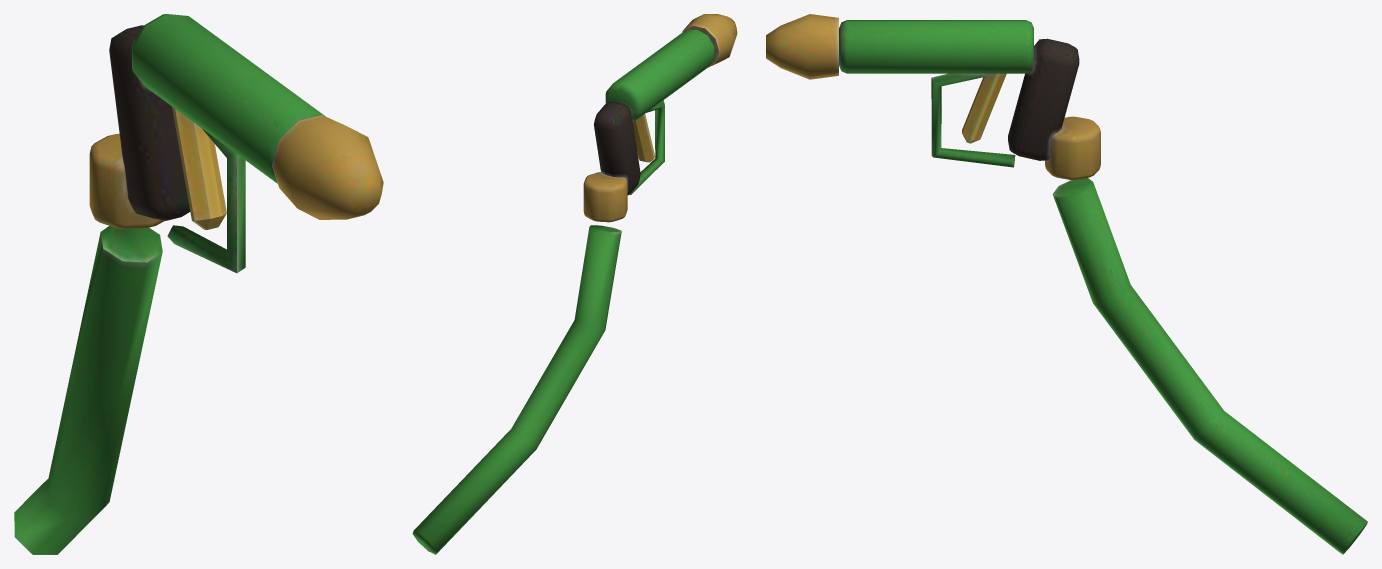
The model's file is hose_nozzle.glb.
The picture shows the model from 3 angles, left to right: view 1: azimuth 30°, elevation 25°; view 2: azimuth 150°, elevation 25°; view 3: azimuth 270°, elevation 25°; orthographic projection. The views are drawn at different scales.
Visible parts, largest first — view 1: hose_nozzle; view 2: hose_nozzle; view 3: hose_nozzle.
Part boxes in pixels (<box>): hose_nozzle: <box>14,14,383,554</box>; hose_nozzle: <box>412,14,737,554</box>; hose_nozzle: <box>766,14,1367,554</box>.
Bounding box in the file's own units: 0.1547 × 0.56 × 0.6178.
1 material, 1 textured.
